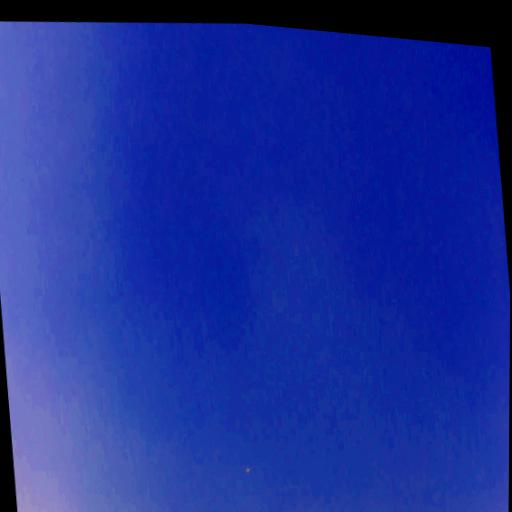drones: (245, 466, 252, 475)
